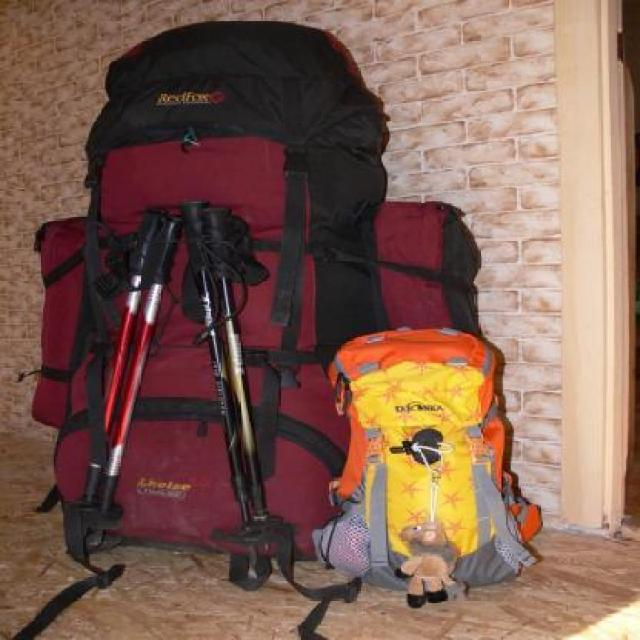backpack: (25, 17, 357, 558), (316, 325, 550, 606)
